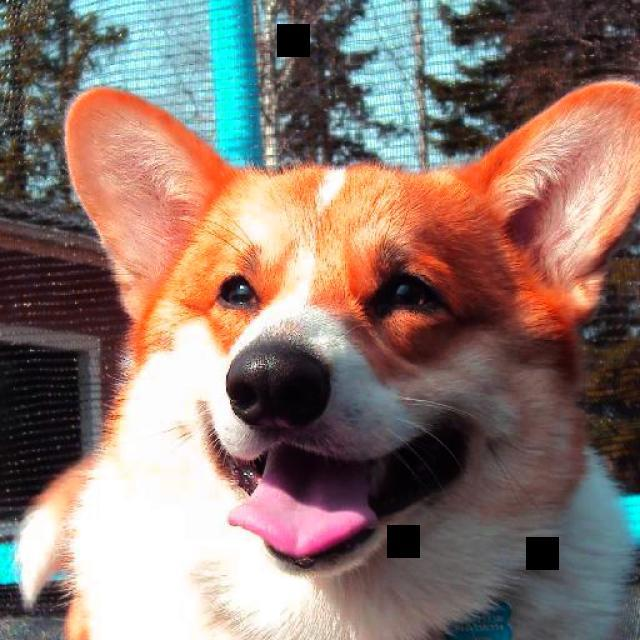adult_dog: (11, 74, 640, 640)
